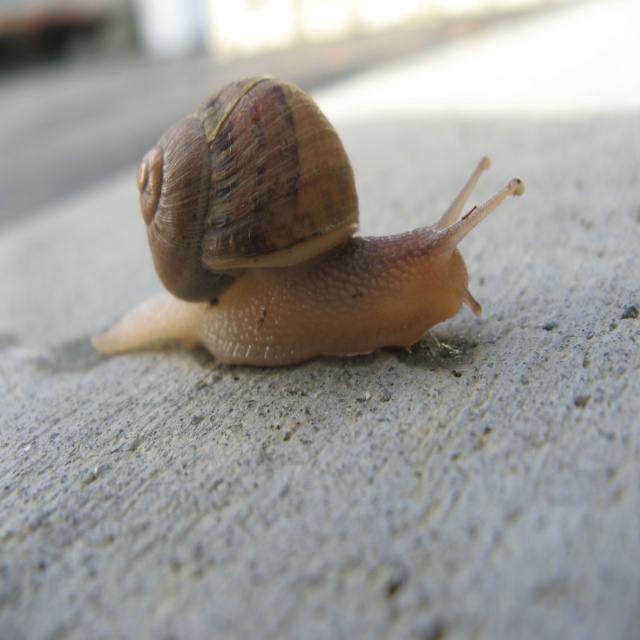Snail: (91, 75, 525, 367)
